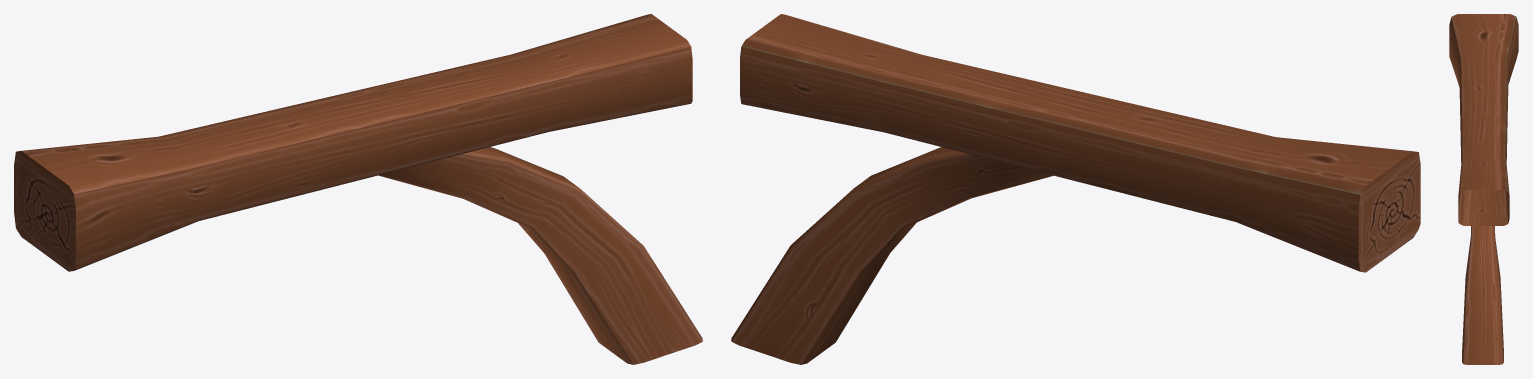
File: SM_Handle.fbx
3 renders of one model, left to right at view 1: azimuth 30°, elevation 25°; view 2: azimuth 150°, elevation 25°; view 3: azimuth 270°, elevation 25°, orthographic. The views are drawn at different scales.
Visible parts, largest first — view 1: SM_Handle_LOD0; view 2: SM_Handle_LOD0; view 3: SM_Handle_LOD0.
Part boxes in pixels (x1,y1,x2,y2): SM_Handle_LOD0: (14,14,702,364); SM_Handle_LOD0: (731,14,1420,364); SM_Handle_LOD0: (1449,14,1518,364).
Size of the model in its own units: 263 by 43.94 by 126.
Materials: 1 (1 with a texture image).
